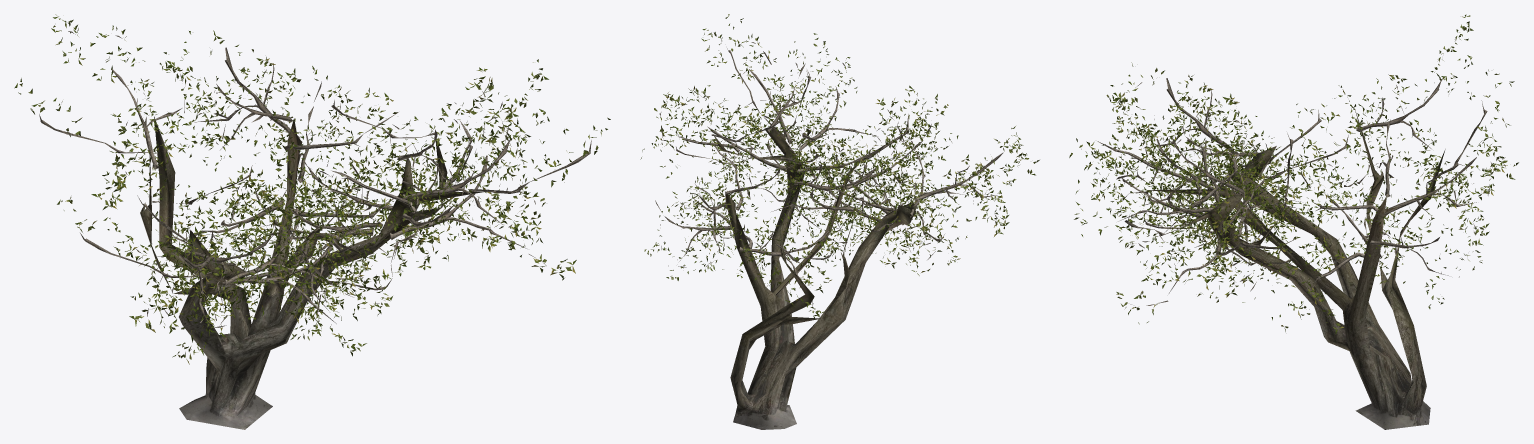
Rendered from island_tree_02_lod.glb.
3 views of the same model, side by side, from view 1: azimuth 30°, elevation 25°; view 2: azimuth 150°, elevation 25°; view 3: azimuth 270°, elevation 25° (orthographic). The views are drawn at different scales.
Visible parts, largest first — view 1: island_tree_02_LOD0; view 2: island_tree_02_LOD0; view 3: island_tree_02_LOD0.
Boxes of the visible parts, x1,y1,x2,y2 form: island_tree_02_LOD0: (14, 14, 610, 429); island_tree_02_LOD0: (640, 14, 1039, 429); island_tree_02_LOD0: (1069, 14, 1518, 429).
Bounding box in the file's own units: 3.77 × 3.4 × 4.03.
Materials: 3 (3 with a texture image).
